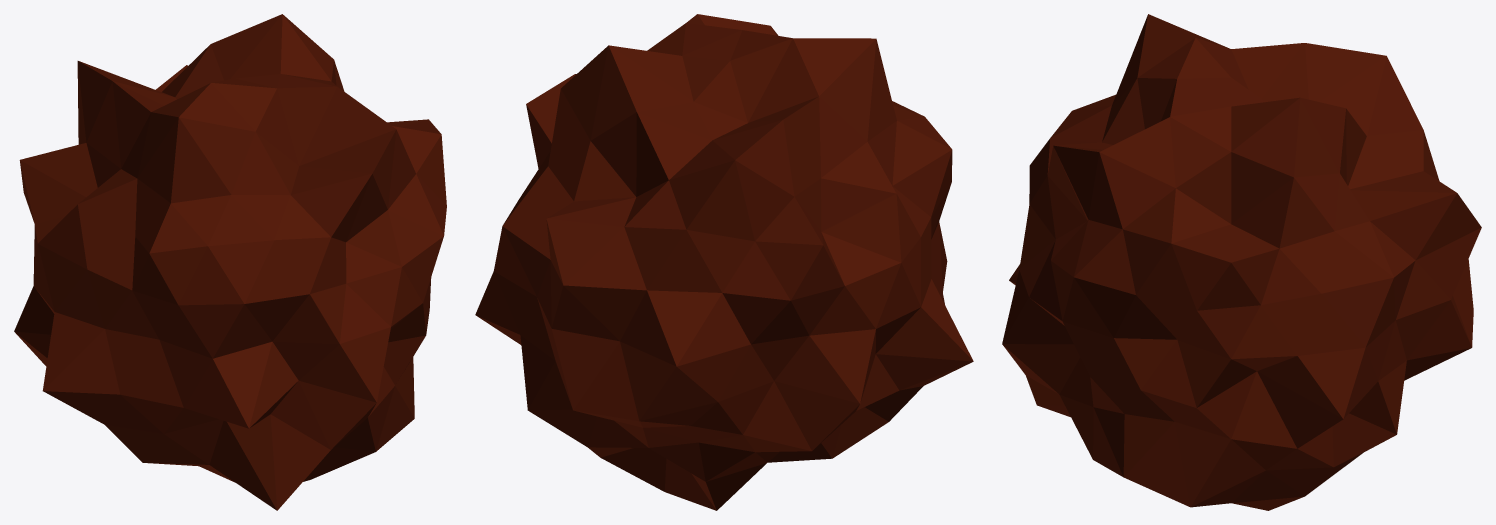
Rendered from Infection.obj.
3 renders of one model, left to right at view 1: azimuth 30°, elevation 25°; view 2: azimuth 150°, elevation 25°; view 3: azimuth 270°, elevation 25°, orthographic. The views are drawn at different scales.
Parts seen in each view (by area): view 1: Icosphere; view 2: Icosphere; view 3: Icosphere.
Boxes of the visible parts, x1=… form: Icosphere: x1=14, y1=14, x2=446, y2=510; Icosphere: x1=475, y1=14, x2=973, y2=510; Icosphere: x1=1002, y1=14, x2=1481, y2=510.
Bounding box in the file's own units: 2.24 × 2.25 × 2.26.
